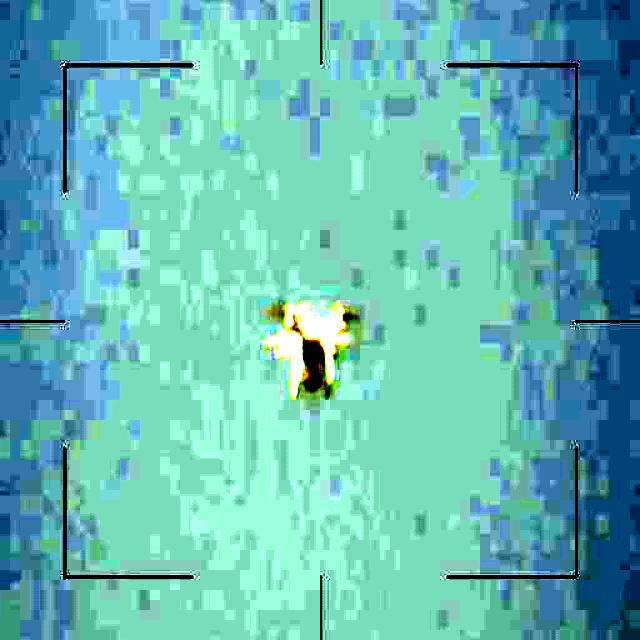bird: (266, 291, 356, 399)
